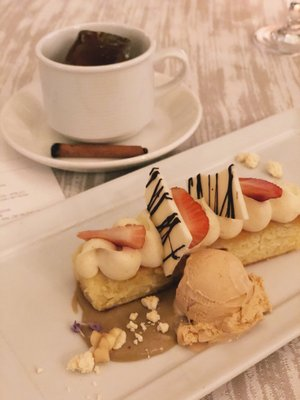pizza: (35, 23, 190, 144)
